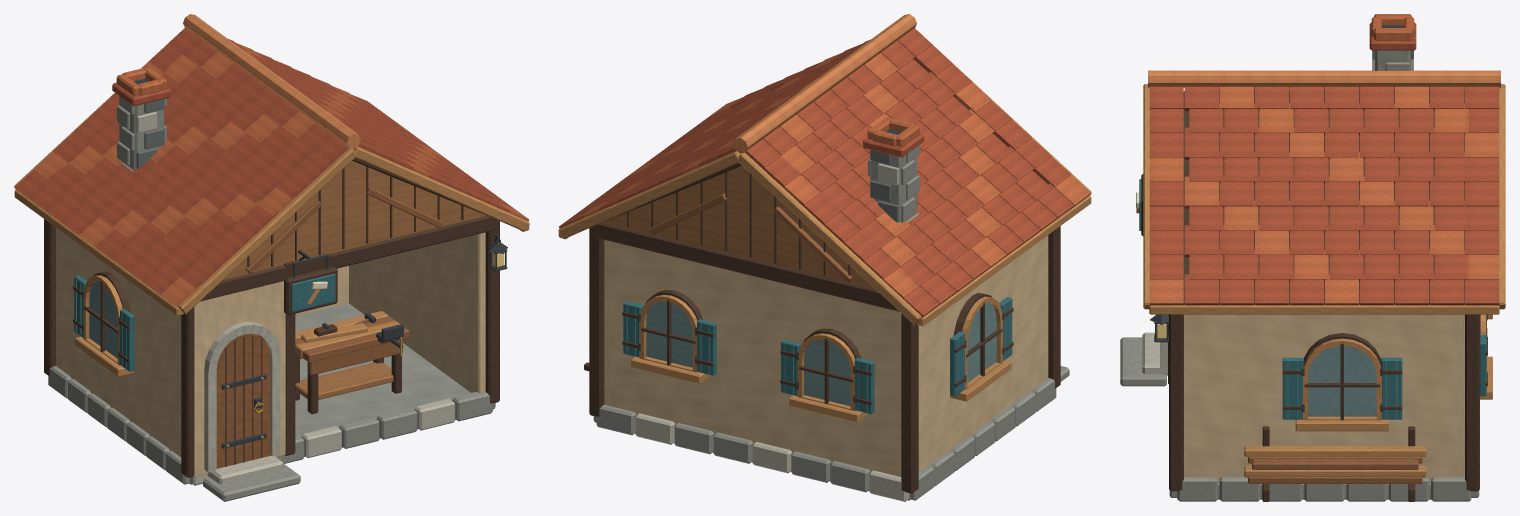
File: building_carpenter_workshop.glb
3 renders of one model, left to right at view 1: azimuth 30°, elevation 25°; view 2: azimuth 150°, elevation 25°; view 3: azimuth 270°, elevation 25°, orthographic. The views are drawn at different scales.
Visible parts, largest first — view 1: building_carpenter_workshop; view 2: building_carpenter_workshop; view 3: building_carpenter_workshop.
Boxes of the visible parts, left/top/right/bottom form: building_carpenter_workshop: left=14, top=14, right=529, bottom=501; building_carpenter_workshop: left=558, top=14, right=1091, bottom=501; building_carpenter_workshop: left=1120, top=14, right=1505, bottom=501.
Size of the model in its own units: 5.88 by 4.97 by 4.95.
1 material, 1 textured.
